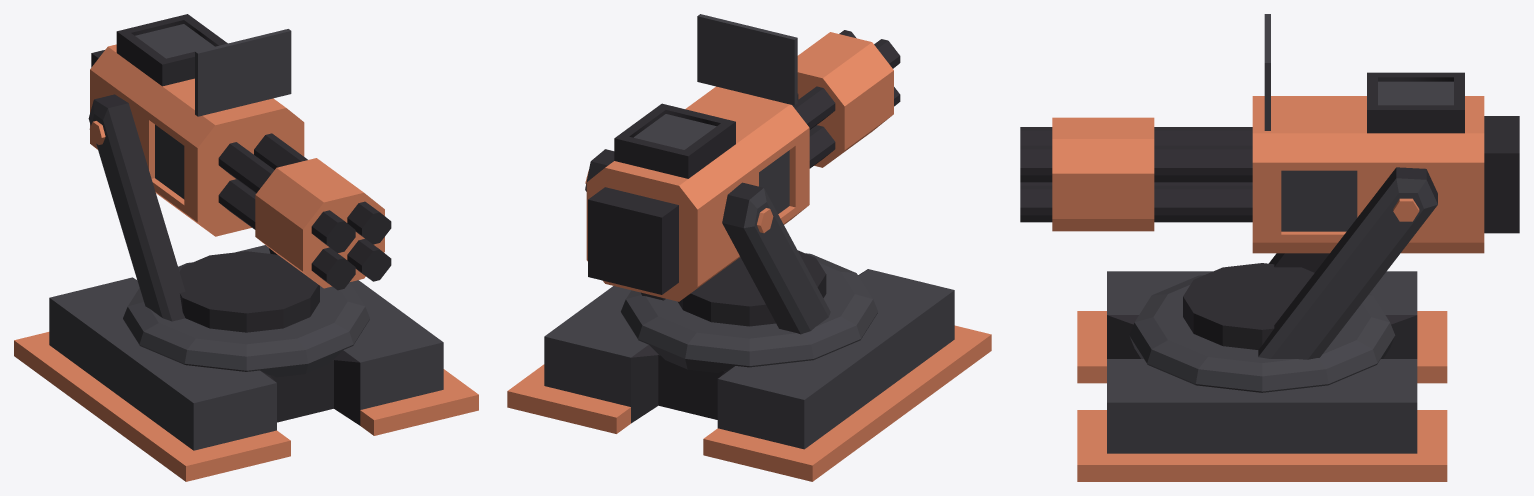
The model's file is rapid.fbx.
3 views of the same model, side by side, from view 1: azimuth 30°, elevation 25°; view 2: azimuth 150°, elevation 25°; view 3: azimuth 270°, elevation 25° (orthographic). The views are drawn at different scales.
Parts seen in each view (by area): view 1: Cylinder.003, Cube.005; view 2: Cylinder.003, Cube.005; view 3: Cylinder.003, Cube.005.
Boxes of the visible parts, x1,y1,x2,y2 form: Cylinder.003: (88,14,391,377); Cube.005: (14,245,478,481); Cylinder.003: (585,14,900,372); Cube.005: (507,269,991,481); Cylinder.003: (1020,14,1519,392); Cube.005: (1077,271,1447,481).
Size of the model in its own units: 179 by 198 by 245.
